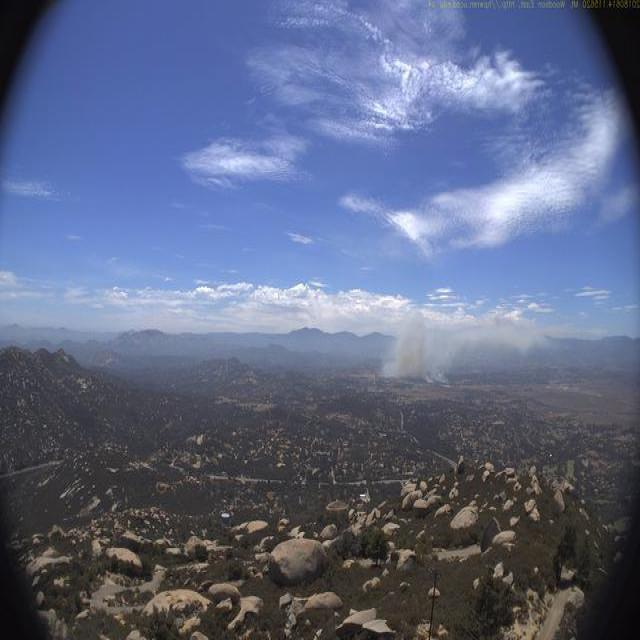Smoke: (379, 284, 558, 395)
